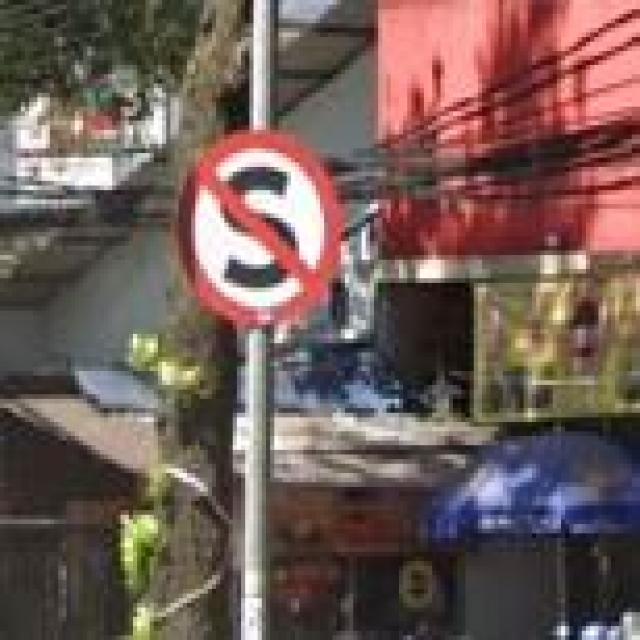traffic sign: (179, 135, 345, 325)
